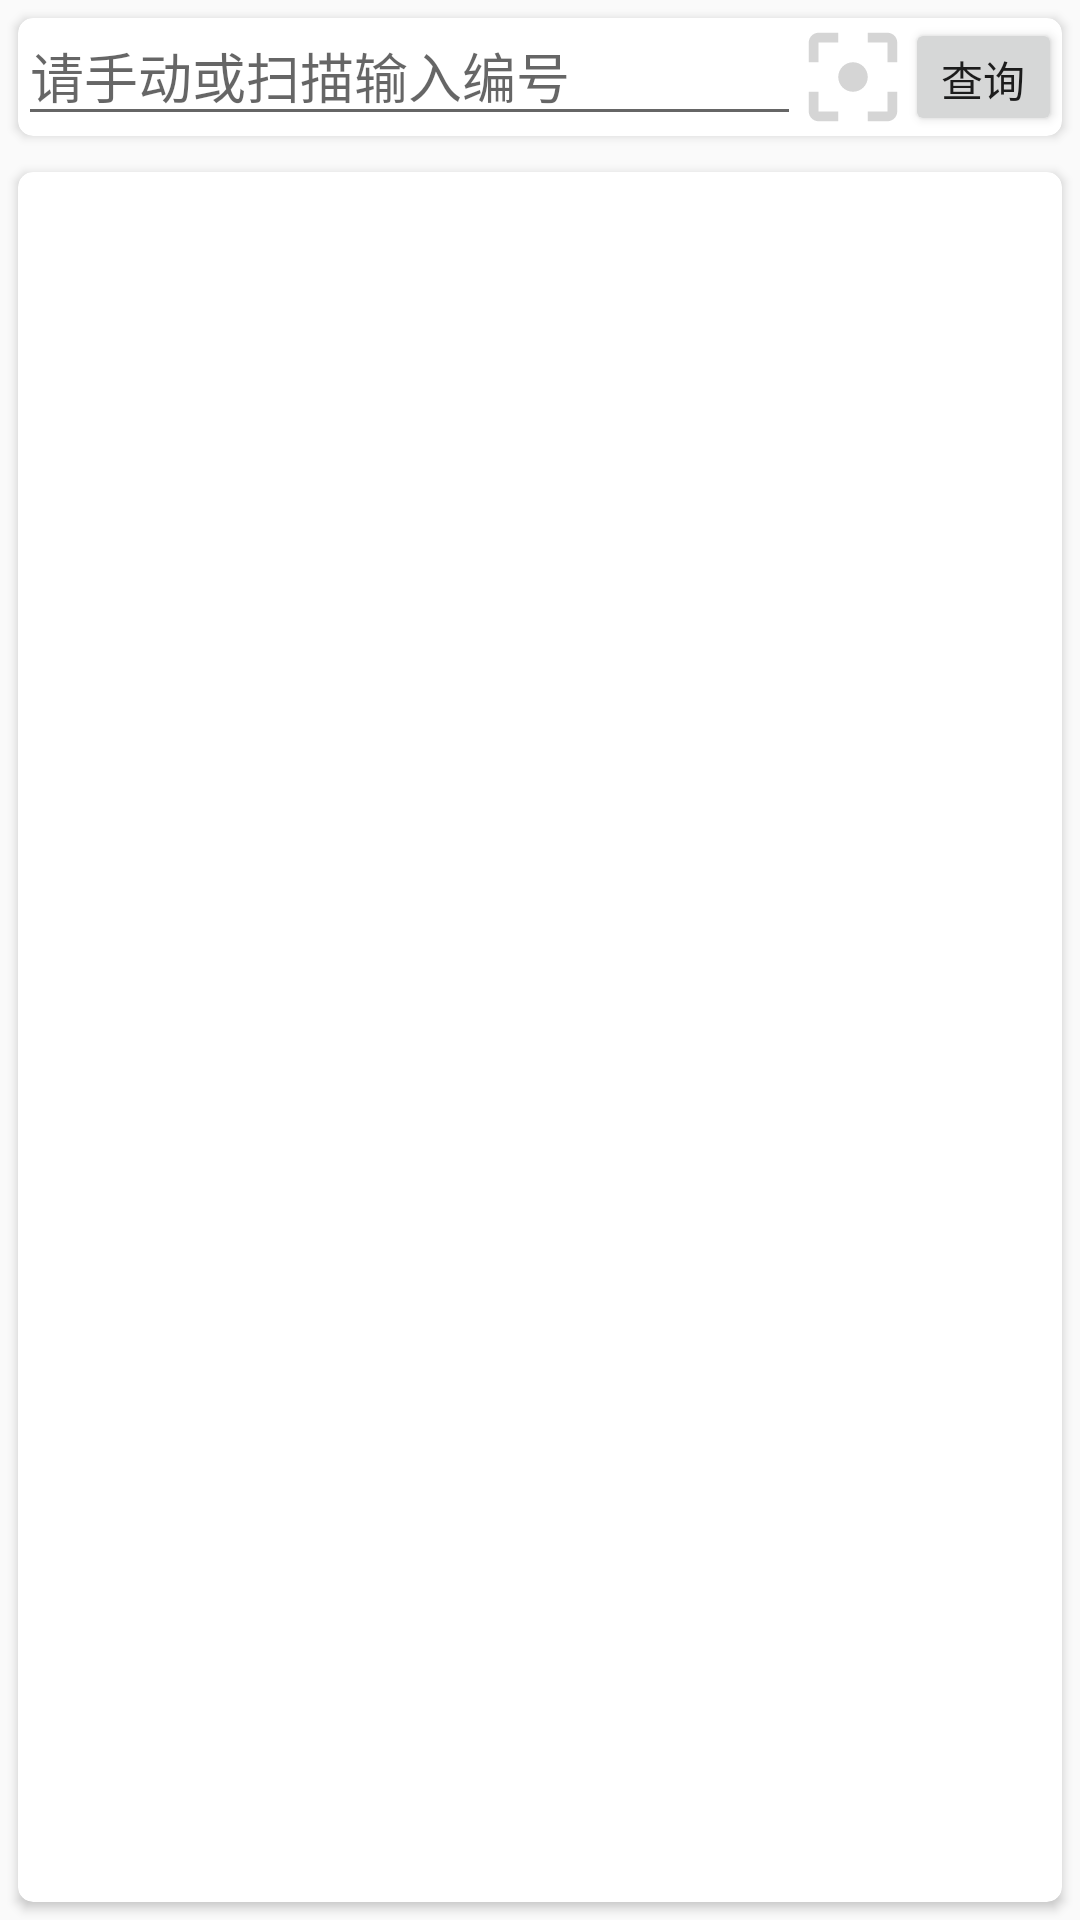

Screen size 1080 x 1920. Icon name, then its center in pixels as (x,y):
scan: (853,77)
